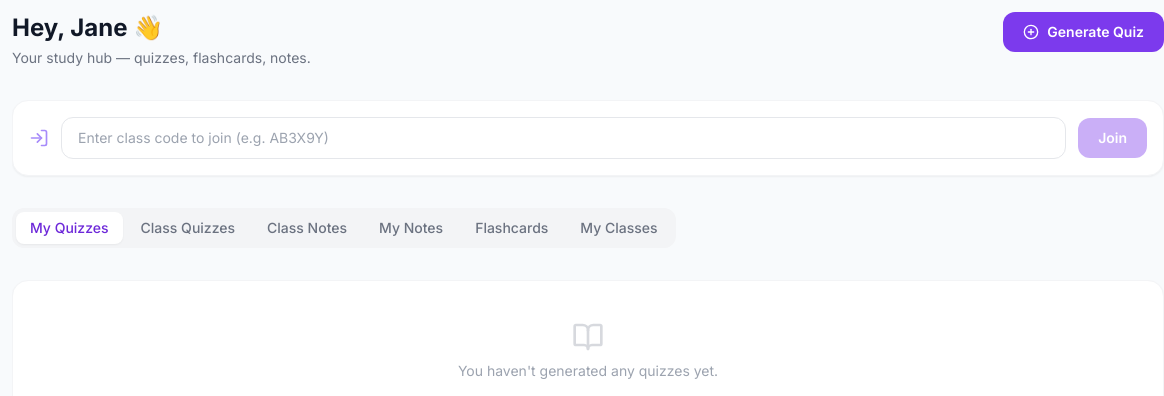
StudentDashboard - FEAT-003 › AC-3.1.3: class not found error shown on 404 response
# Type a class code
Type "NOTFOUND" into the field with placeholder "Enter class code to join (e.g. AB3X9Y)" at [564, 138], box [61,117,1066,159]
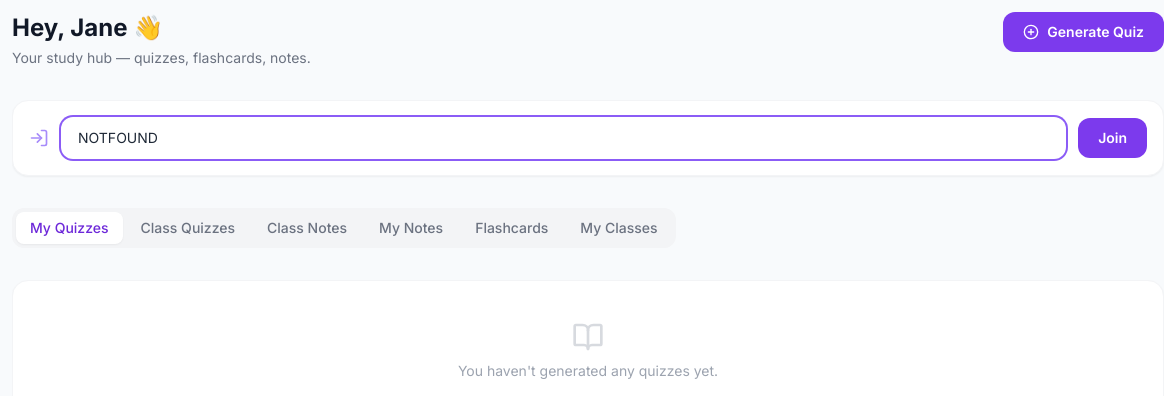
# Click join
Click the button "Join" at [1113, 138], box [1078,118,1147,158]
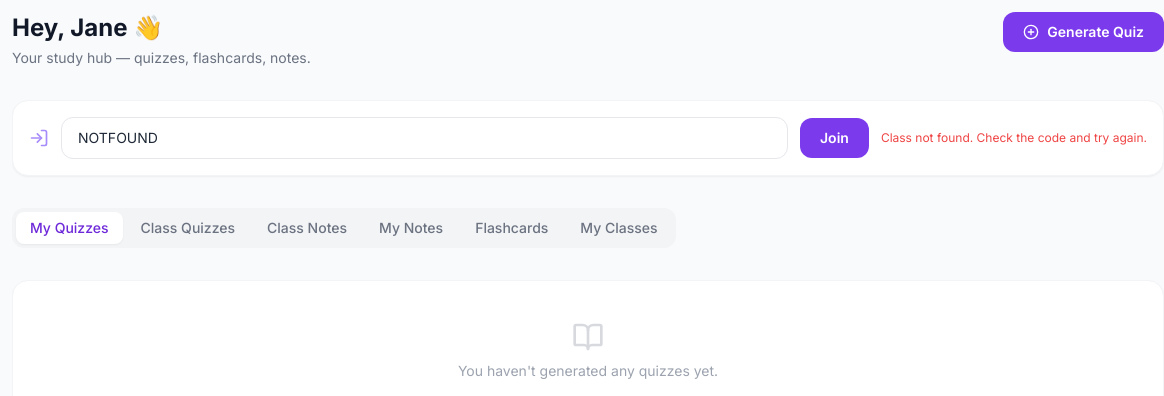
Expected: the text "Class not found. Check the code and try again." is shown, [881,130,1147,146]
